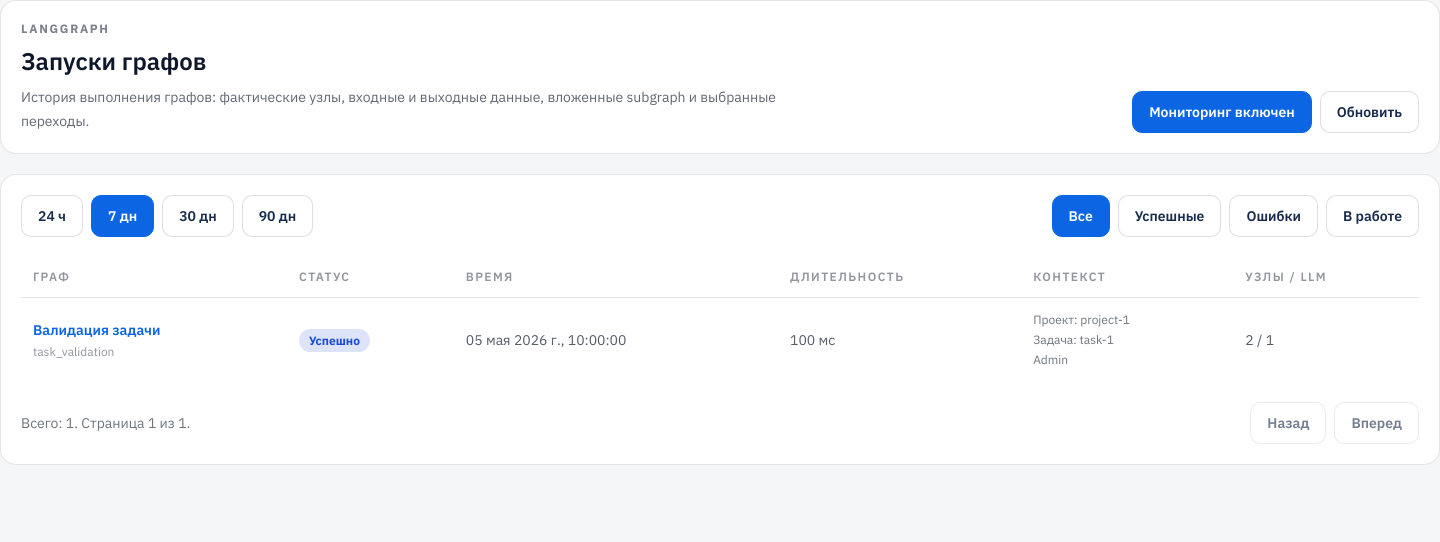
Scenario: GraphRunsPage › updates graph monitoring toggle
The image size is (1440, 542).
Click the button "Мониторинг включен".
click(1222, 112)  # box x1=1132 y1=91 x2=1312 y2=133
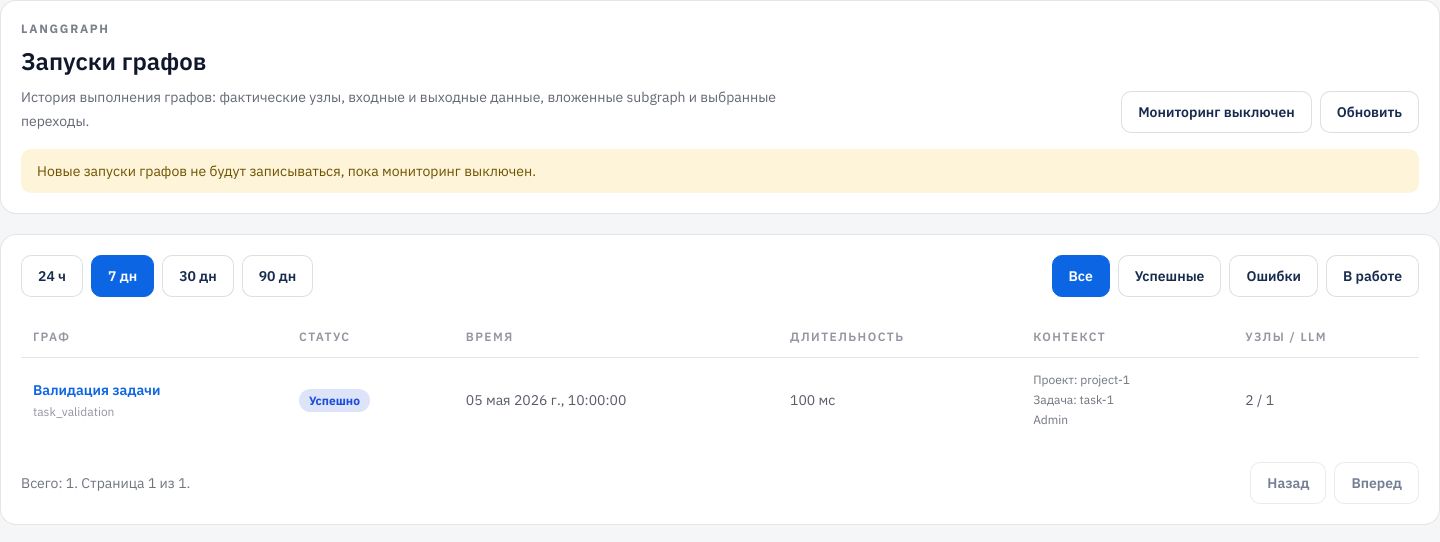
Now the button "Мониторинг выключен" is shown, box x1=1121 y1=91 x2=1312 y2=133
